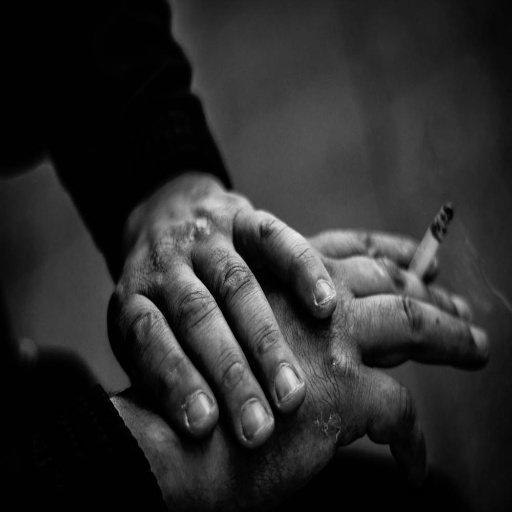hand: (130, 226, 492, 511), (103, 168, 337, 451)
